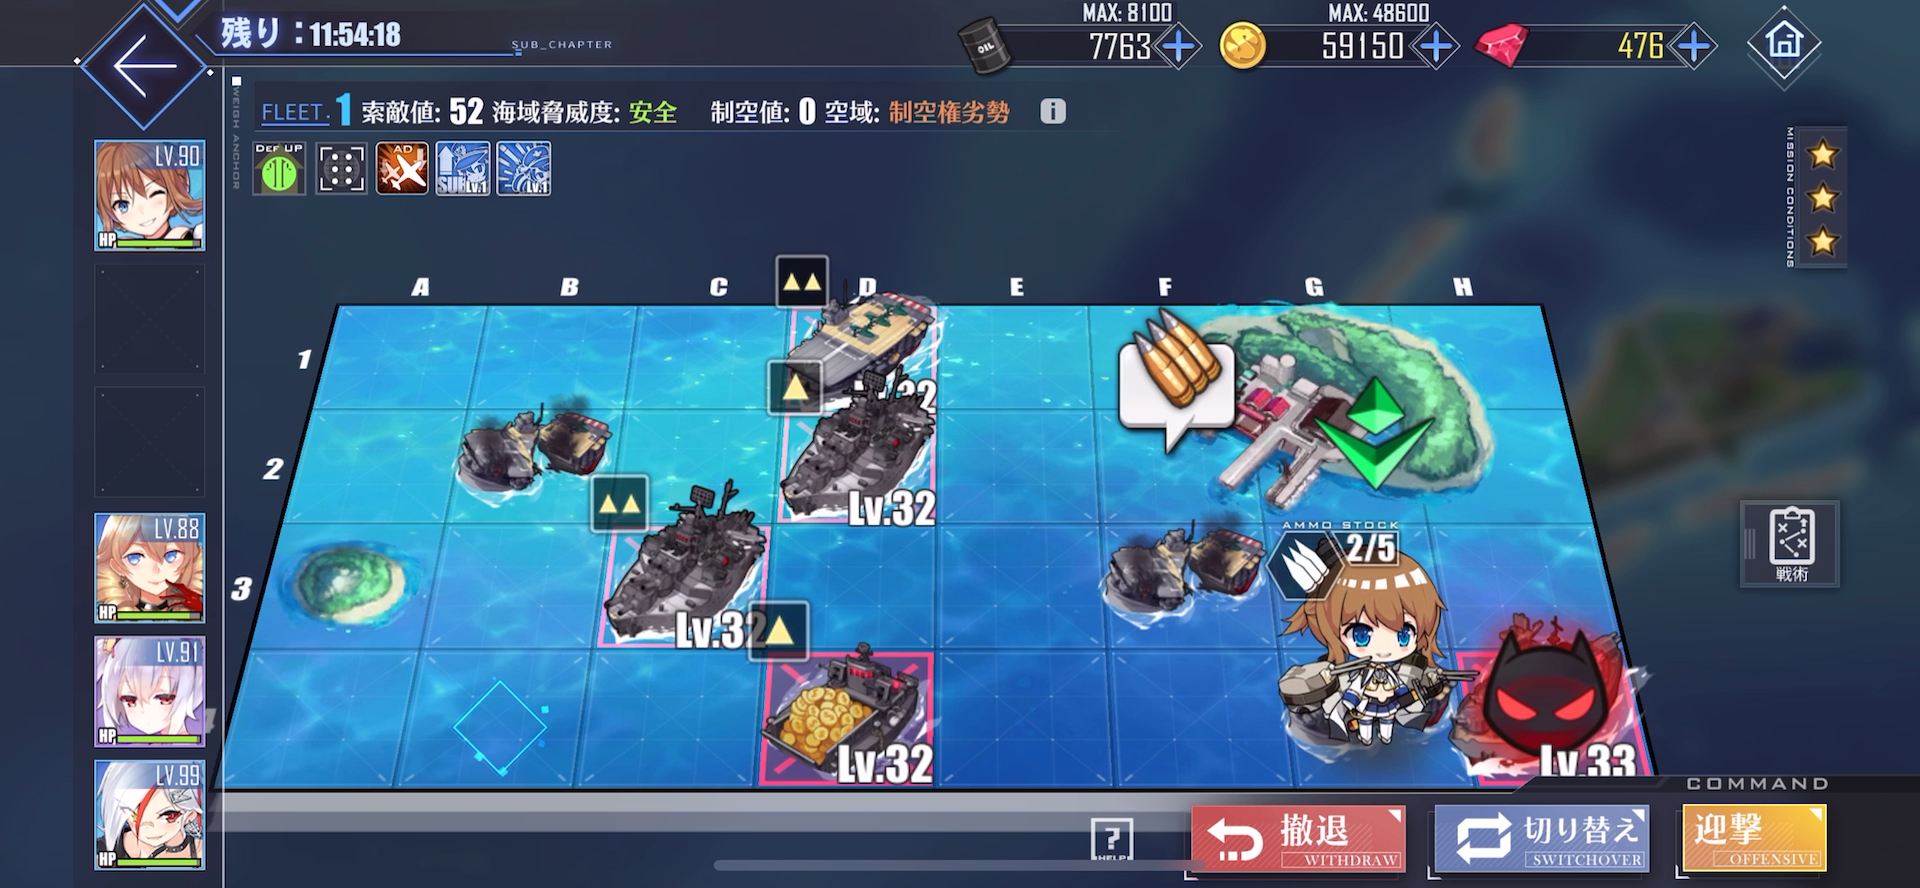boss: (1446, 619, 1644, 777)
